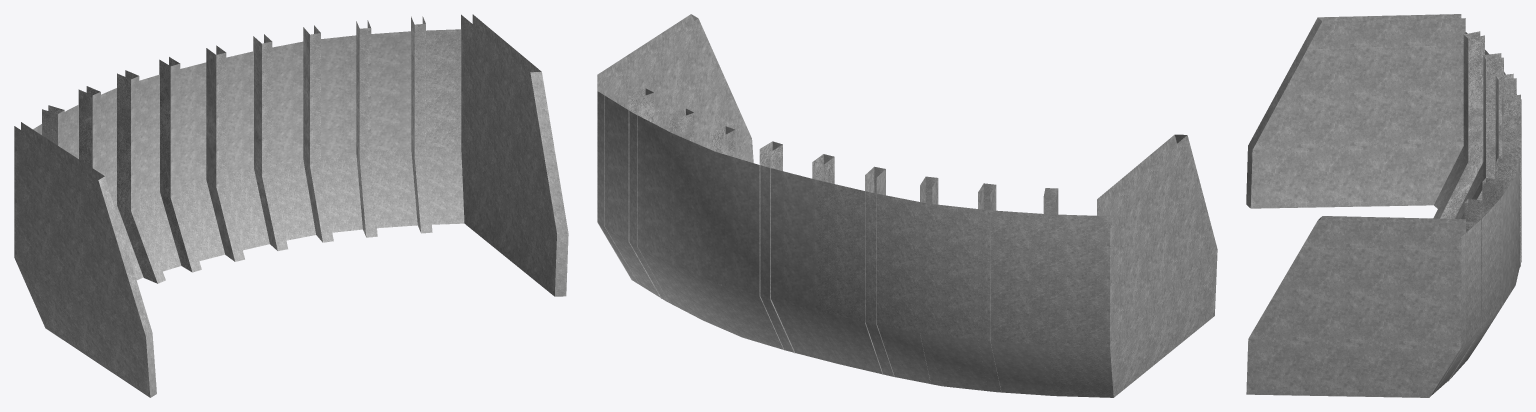
Rendered from Dam.FBX.
The picture shows the model from 3 angles, left to right: view 1: azimuth 30°, elevation 25°; view 2: azimuth 150°, elevation 25°; view 3: azimuth 270°, elevation 25°; orthographic projection. The views are drawn at different scales.
Visible parts, largest first — view 1: Plane001; view 2: Plane001; view 3: Plane001.
Boxes of the visible parts, box(x1,y1,x2,y2) form: Plane001: box(14, 14, 568, 397); Plane001: box(597, 14, 1217, 397); Plane001: box(1246, 14, 1521, 397).
Size of the model in its own units: 1121 by 452 by 623.
Materials: 1 (1 with a texture image).
